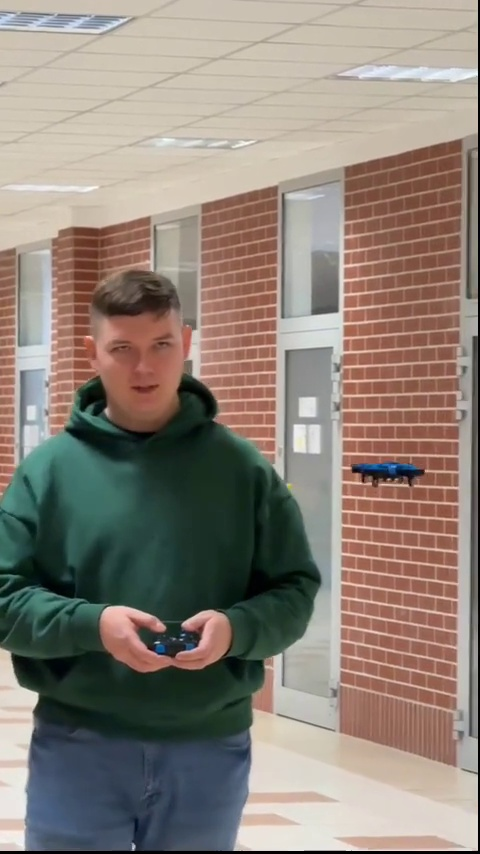drone: (352, 458, 432, 490)
no vest: (7, 266, 330, 830)
